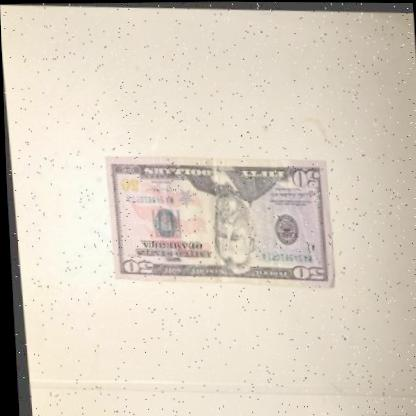fifty-front: (100, 150, 331, 288)
